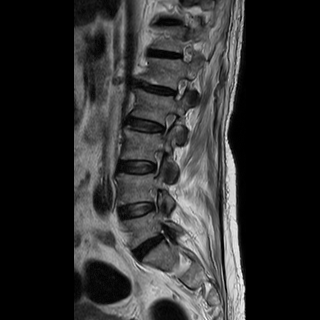RFS0: (169, 75, 194, 106)
RFS1: (145, 145, 171, 182), (153, 110, 179, 144)
